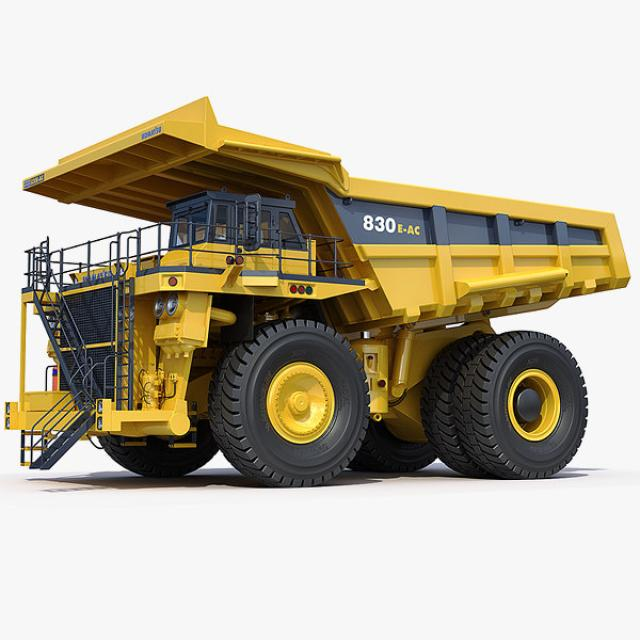dump_truck: (19, 92, 632, 483)
